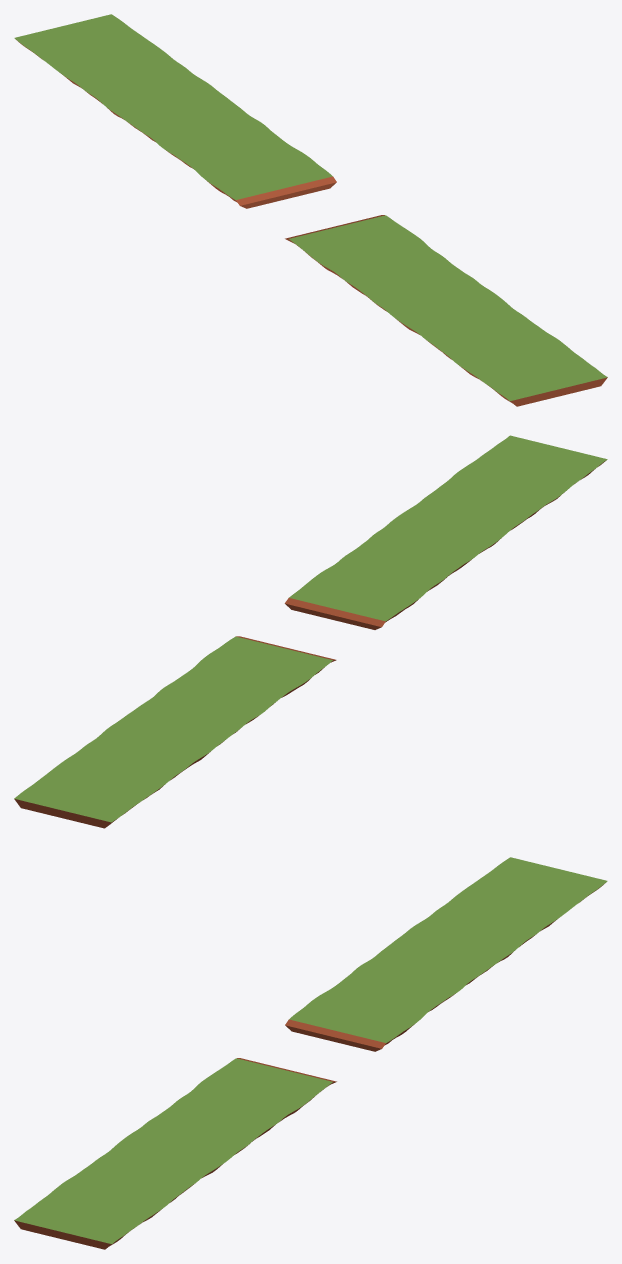
The model's file is ponte_15f.glb.
3 renders of one model, top to bottom at view 1: azimuth 30°, elevation 25°; view 2: azimuth 150°, elevation 25°; view 3: azimuth 330°, elevation 25°, orthographic.
Parts seen in each view (by area): view 1: ponte_15f; view 2: ponte_15f; view 3: ponte_15f.
Part boxes in pixels (<box>): ponte_15f: <box>14,14,607,406</box>; ponte_15f: <box>14,435,607,828</box>; ponte_15f: <box>14,857,607,1249</box>.
Size of the model in its own units: 57.4 by 4.45 by 488.
